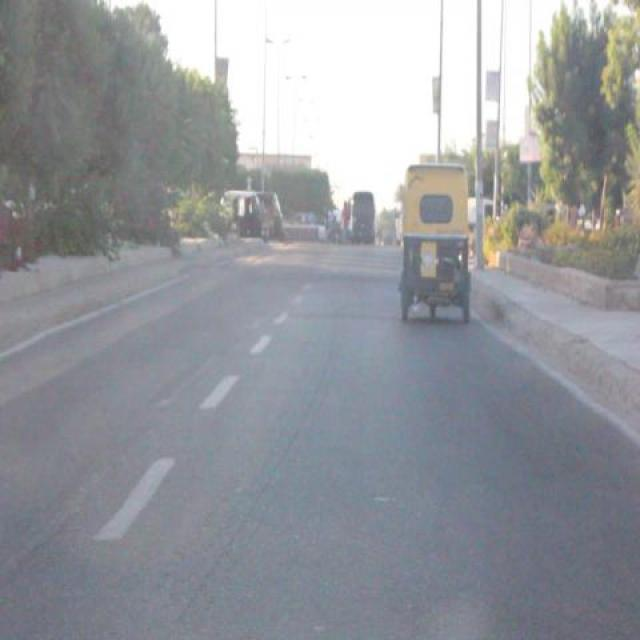Unmarked Bump: (230, 260, 402, 287)
